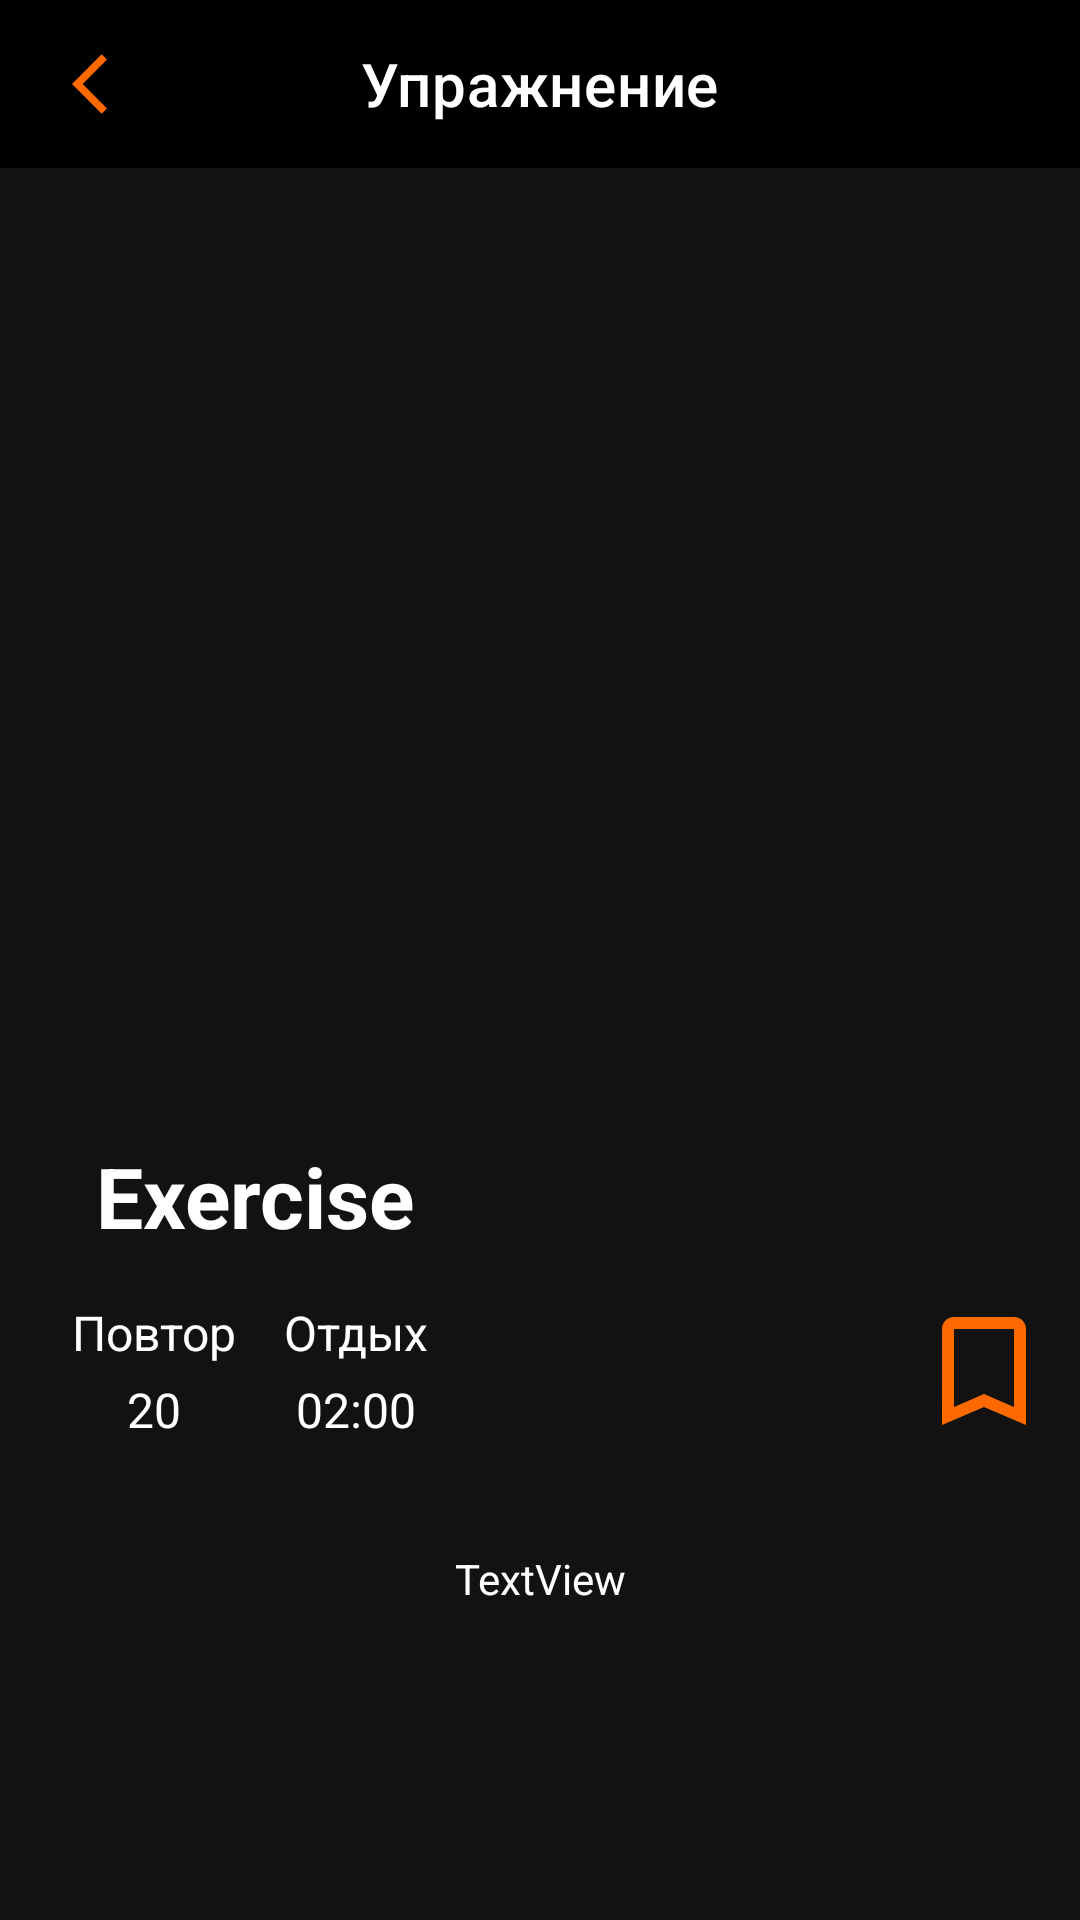

Icons on this 1080x1920 Android screen, each with the point to tap as (x=x, y=y):
no favorite: (x=984, y=1371)
